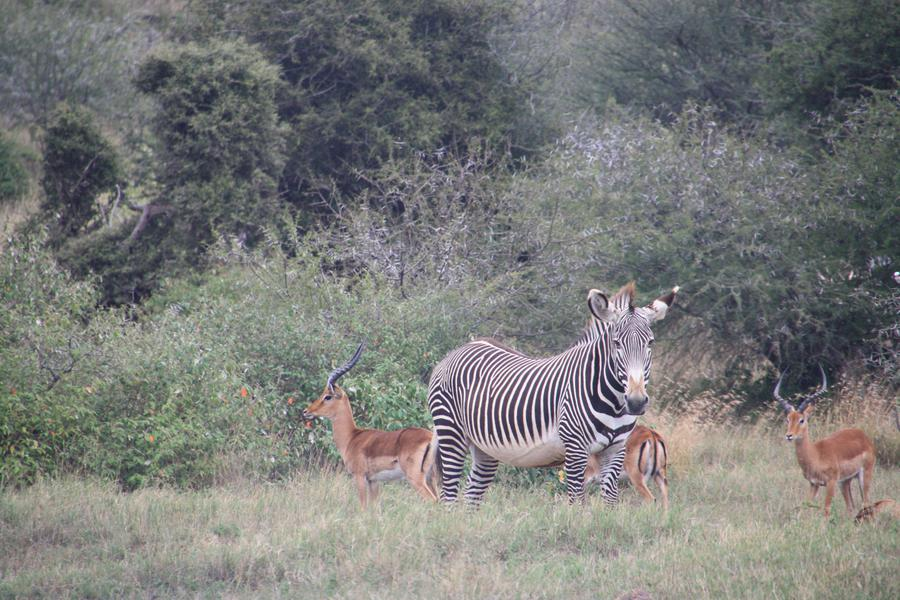zebra_grevys: (429, 329, 609, 444)
